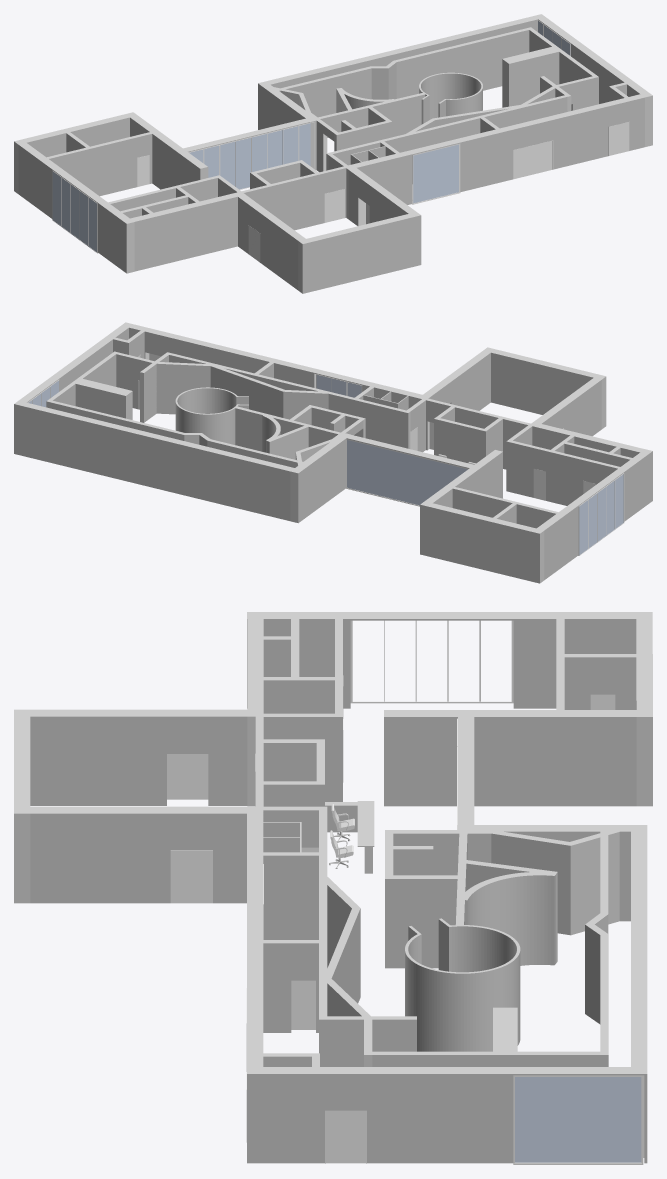
Rendered from VDNH-GLB.glb.
3 views of the same model, one above another, from view 1: azimuth 30°, elevation 25°; view 2: azimuth 150°, elevation 25°; view 3: azimuth 270°, elevation 25° (orthographic). The views are drawn at different scales.
Size of the model in its own units: 0.0665 by 0.0061 by 0.0388.
